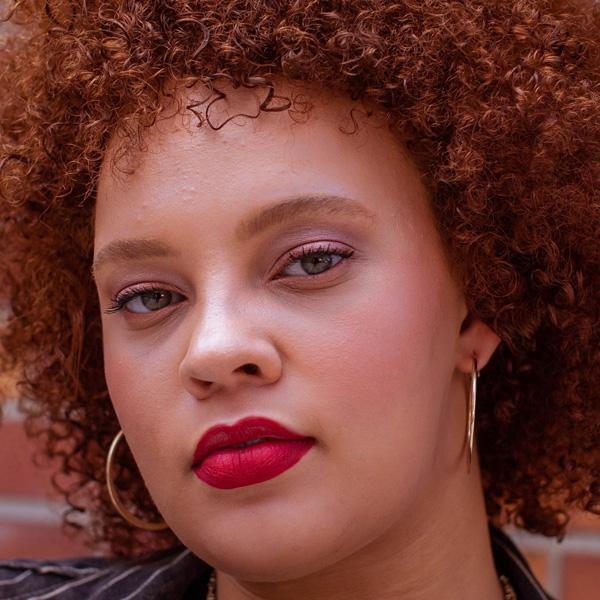Eyes: (264, 232, 366, 301), (104, 269, 198, 332)
